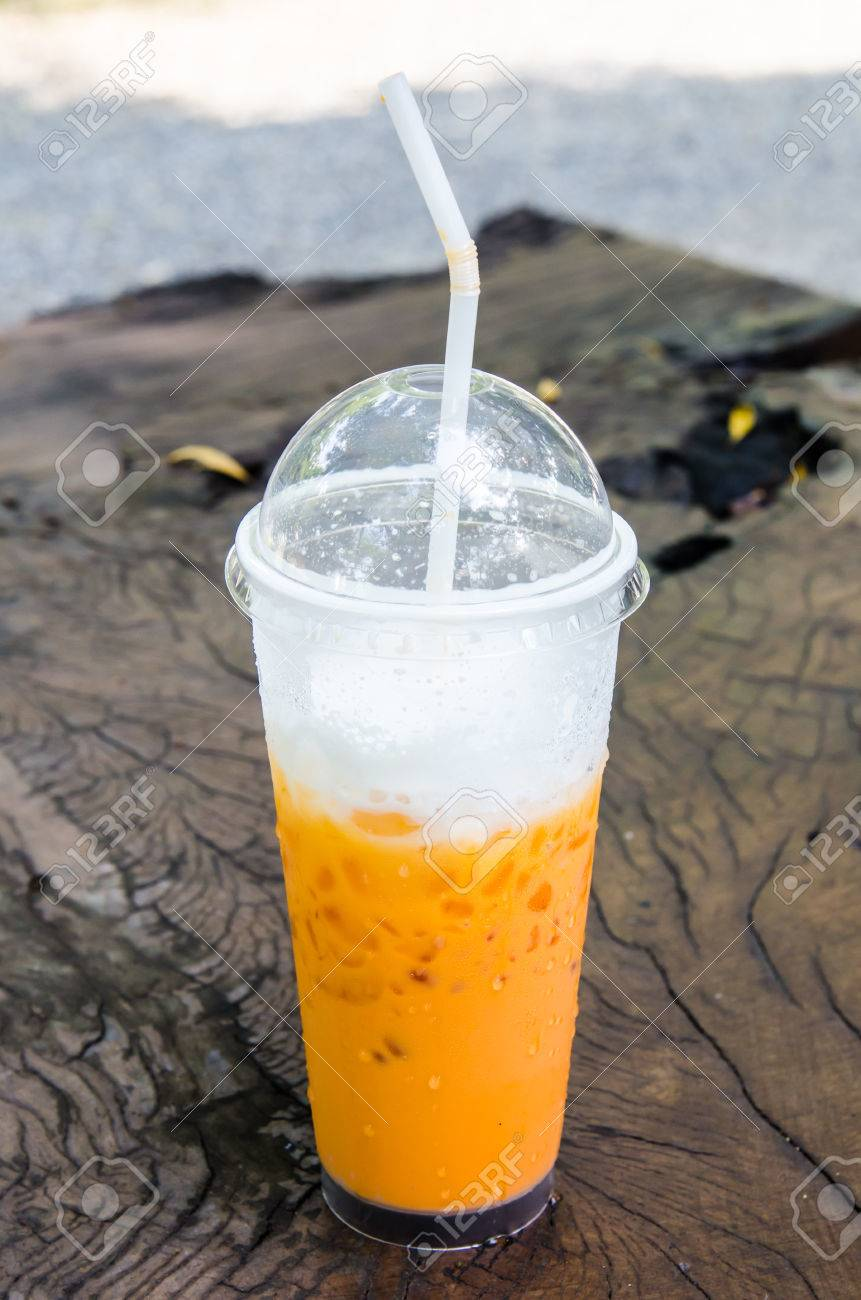plastic_bottle: (208, 337, 675, 1271)
